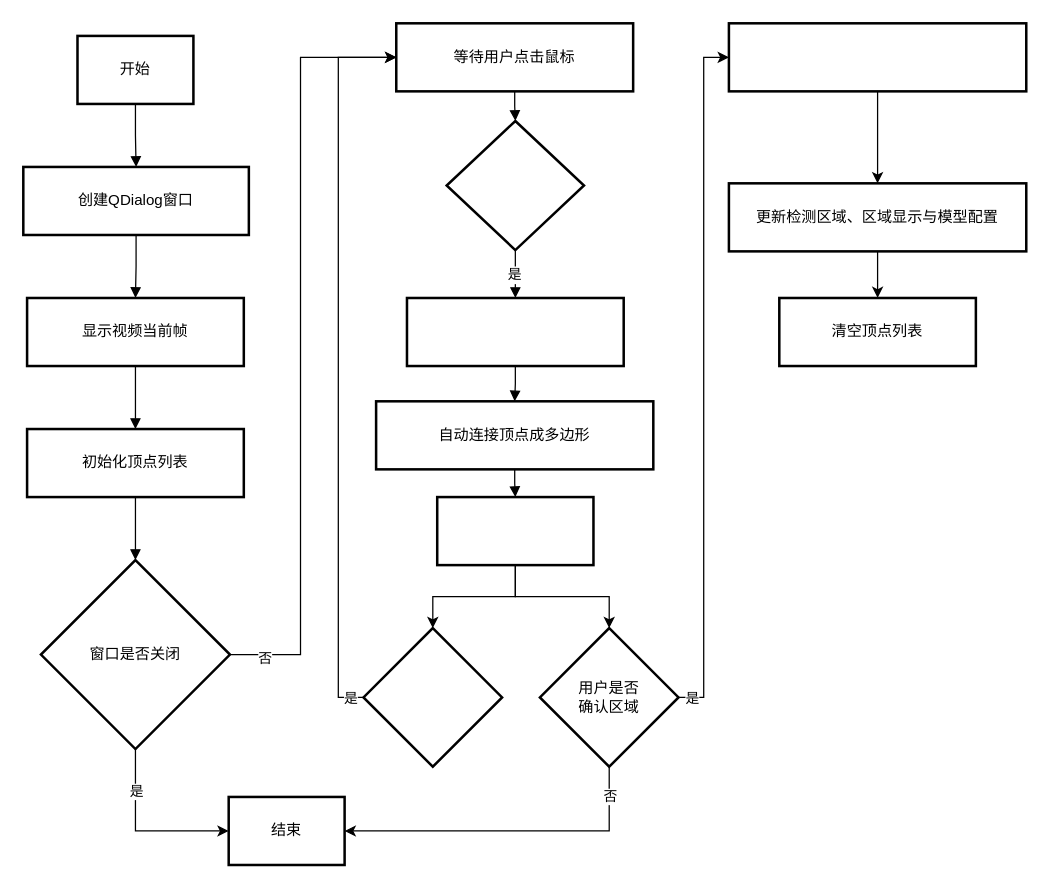
Some shapes in this 1048 by 887 pixel diagram are drawn without their labels. Each missing label, with the centre of its shape:
更新显示: [514,530]
添加顶点到列表: [514,331]
用户是否 选择清空重绘: [432,696]
用户是否点击鼠标: [515,185]
转换坐标并传递给主程序: [877,56]
